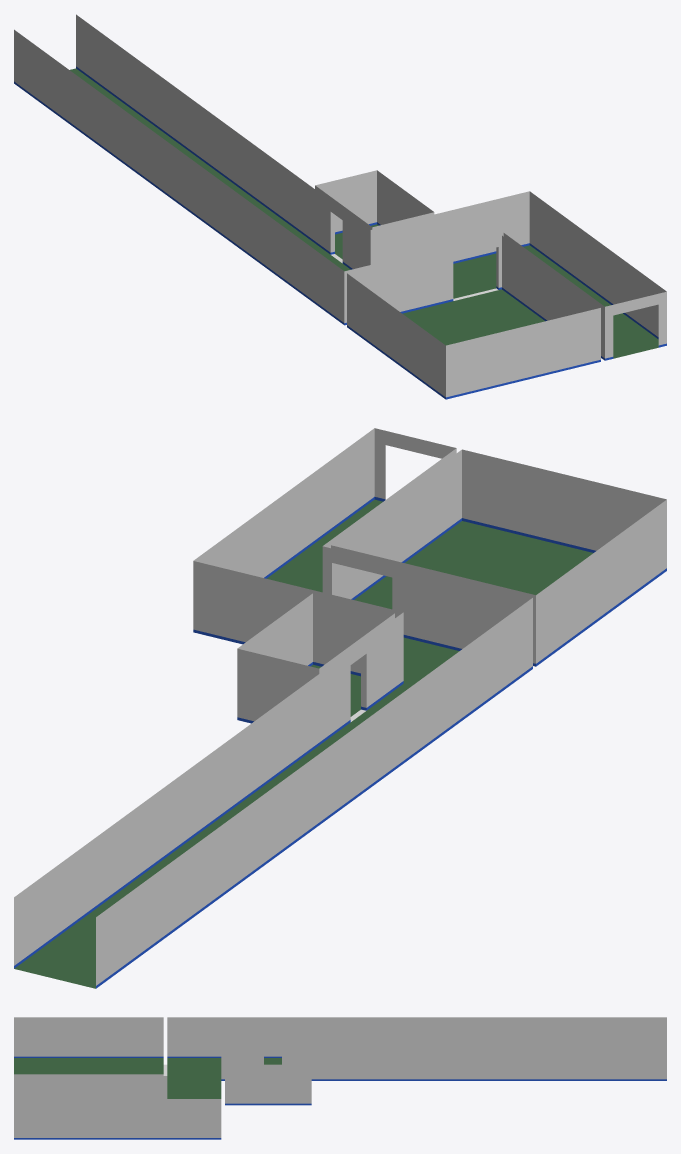
Rendered from Hospital.fbx.
The picture shows the model from 3 angles, top to bottom: view 1: azimuth 30°, elevation 25°; view 2: azimuth 150°, elevation 25°; view 3: azimuth 270°, elevation 25°; orthographic projection. The views are drawn at different scales.
Parts seen in each view (by area): view 1: hospital_room; view 2: hospital_room; view 3: hospital_room.
Boxes of the visible parts, <box> form: hospital_room: <box>14,14,666,399</box>; hospital_room: <box>14,428,666,988</box>; hospital_room: <box>14,1017,666,1139</box>.
Size of the model in its own units: 1070 by 250 by 3620.
